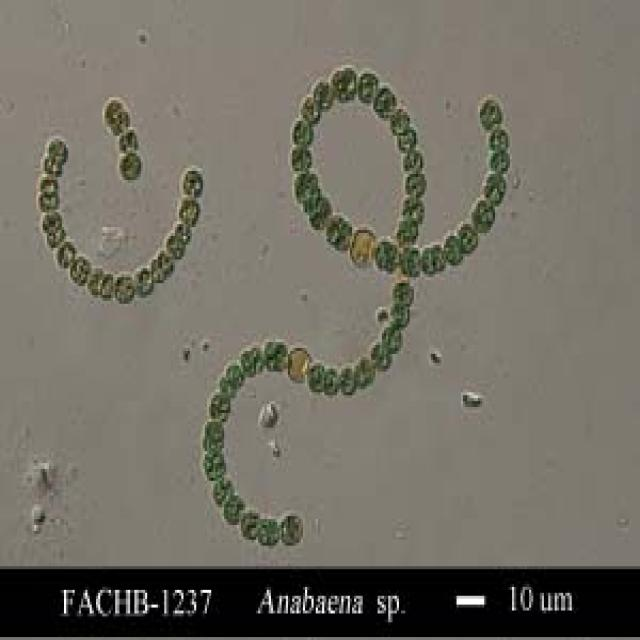Blue Green Algae: (482, 171, 508, 207), (399, 192, 427, 224), (117, 147, 141, 183), (373, 85, 397, 121), (480, 97, 506, 130), (380, 324, 405, 357), (280, 513, 305, 546), (474, 198, 495, 236), (181, 165, 203, 201), (179, 198, 201, 233), (339, 65, 361, 100), (222, 495, 247, 525), (487, 150, 514, 177), (393, 218, 420, 245), (372, 236, 391, 274), (311, 198, 333, 230), (113, 274, 134, 307), (260, 519, 282, 549), (391, 280, 418, 304), (68, 257, 90, 286), (241, 507, 260, 540), (486, 124, 510, 150), (290, 118, 314, 144), (388, 301, 412, 327), (41, 153, 64, 180), (314, 83, 335, 112), (292, 171, 312, 201), (132, 268, 154, 295), (458, 221, 476, 254), (403, 171, 427, 195), (333, 221, 352, 251), (209, 392, 230, 419), (213, 475, 230, 507), (399, 150, 424, 171), (54, 239, 72, 268), (166, 233, 184, 262), (118, 127, 136, 156), (358, 74, 376, 103), (324, 369, 342, 398), (288, 148, 314, 168), (358, 357, 378, 383), (102, 97, 121, 124), (372, 342, 391, 369), (301, 97, 318, 127), (201, 422, 226, 442), (158, 248, 175, 277), (47, 139, 68, 162), (397, 127, 418, 150), (38, 207, 62, 227), (392, 109, 412, 133), (228, 363, 246, 389), (100, 271, 115, 301), (342, 363, 356, 395), (310, 363, 324, 395), (36, 192, 62, 209), (446, 233, 461, 262), (38, 174, 58, 195), (88, 265, 102, 295), (45, 227, 68, 245), (150, 257, 164, 286), (205, 448, 224, 469), (220, 375, 237, 398), (273, 339, 286, 369), (431, 242, 444, 271), (252, 342, 264, 372), (420, 245, 431, 277), (408, 248, 420, 277), (243, 348, 254, 375), (177, 218, 188, 242)
